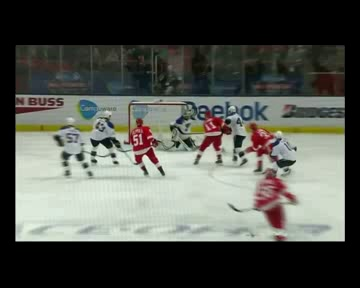normal: (43, 106, 124, 179), (243, 159, 301, 240), (193, 101, 249, 172), (122, 115, 170, 181)
